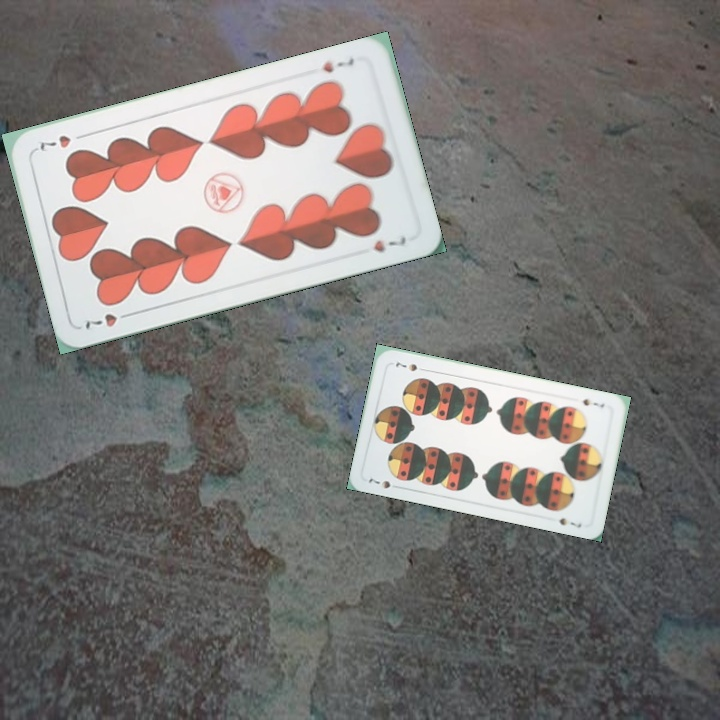H7: (81, 308, 136, 332), (319, 53, 357, 76)
S7: (364, 474, 393, 491), (579, 395, 607, 410)
